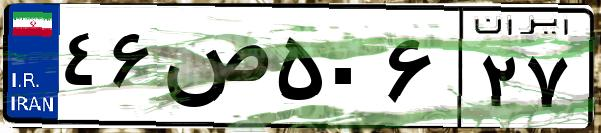0: (330, 28, 385, 110)
2: (475, 38, 525, 113)
4: (57, 26, 110, 100)
5: (270, 28, 330, 110)
6: (385, 28, 445, 110), (110, 28, 158, 98)
7: (525, 38, 570, 115)
ص: (158, 20, 270, 120)
